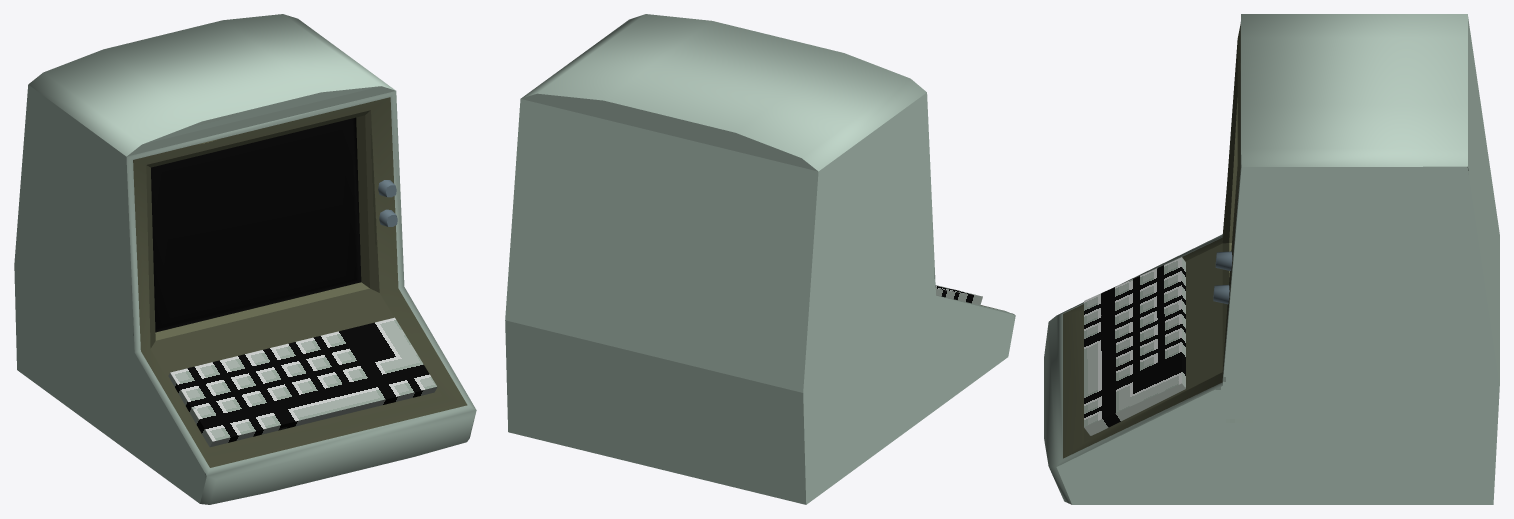
The model's file is terminal-table.glb.
3 renders of one model, left to right at view 1: azimuth 30°, elevation 25°; view 2: azimuth 150°, elevation 25°; view 3: azimuth 270°, elevation 25°, orthographic. The views are drawn at different scales.
Visible parts, largest first — view 1: terminal-table; view 2: terminal-table; view 3: terminal-table.
Part boxes in pixels (bbox=[...]): terminal-table: bbox=[14, 14, 476, 504]; terminal-table: bbox=[505, 14, 1015, 504]; terminal-table: bbox=[1044, 14, 1499, 504].
Bounding box in the file's own units: 3.63 × 3.99 × 4.61.
Materials: 2 (1 with a texture image).
